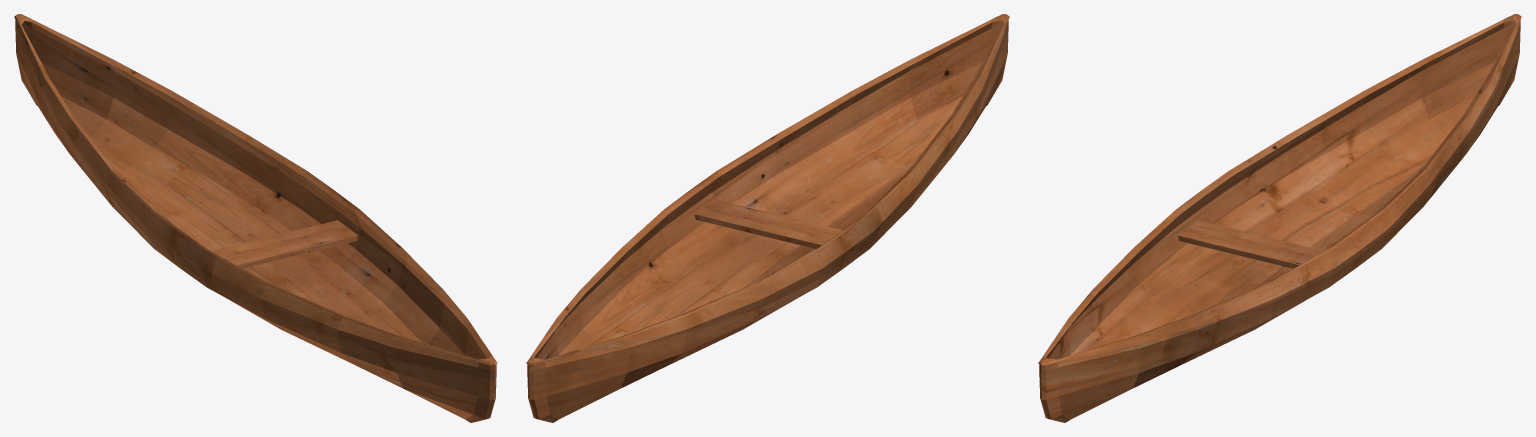
Rendered from boat.fbx.
3 views of the same model, side by side, from view 1: azimuth 30°, elevation 25°; view 2: azimuth 150°, elevation 25°; view 3: azimuth 330°, elevation 25° (orthographic).
Parts seen in each view (by area): view 1: boat:Mesh; view 2: boat:Mesh; view 3: boat:Mesh.
Part boxes in pixels (x1,y1,x2,y2): boat:Mesh: [14, 14, 497, 422]; boat:Mesh: [526, 14, 1009, 422]; boat:Mesh: [1038, 14, 1521, 422].
Size of the model in its own units: 1.61 by 0.7922 by 8.12.
Materials: 1 (1 with a texture image).
